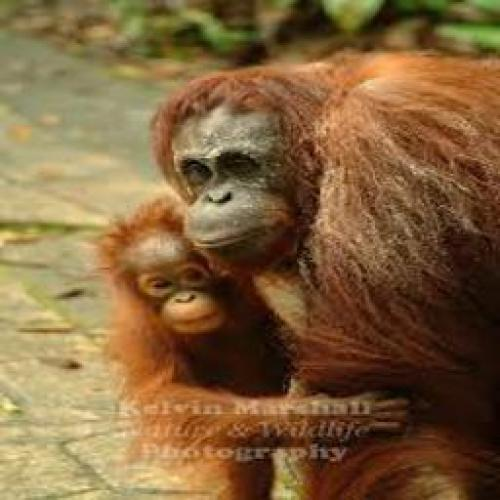orangutan-endangered: (151, 55, 500, 500), (101, 202, 407, 499)
